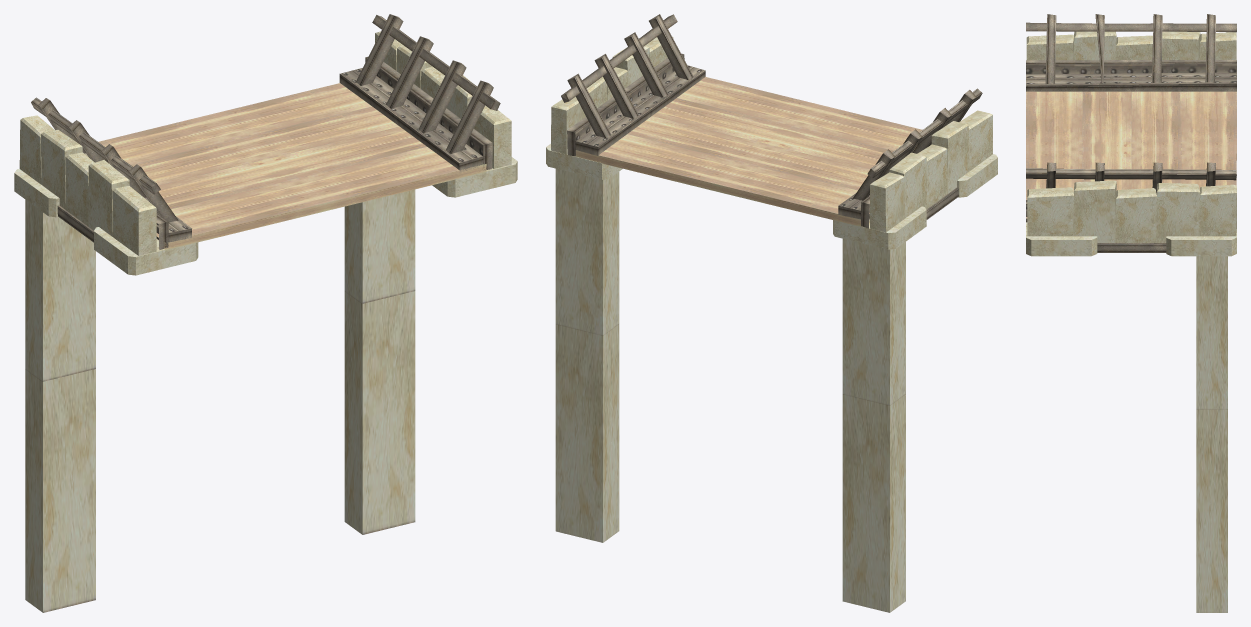
File: C2SMBRIDGE13H.obj
3 renders of one model, left to right at view 1: azimuth 30°, elevation 25°; view 2: azimuth 150°, elevation 25°; view 3: azimuth 270°, elevation 25°, orthographic. The views are drawn at different scales.
Visible parts, largest first — view 1: Node 0; view 2: Node 0; view 3: Node 0.
Boxes of the visible parts, <box> form: Node 0: <box>14,14,517,612</box>; Node 0: <box>546,14,997,612</box>; Node 0: <box>1026,14,1236,612</box>.
Size of the model in its own units: 18.78 by 23.24 by 9.98.
2 materials, 2 textured.
